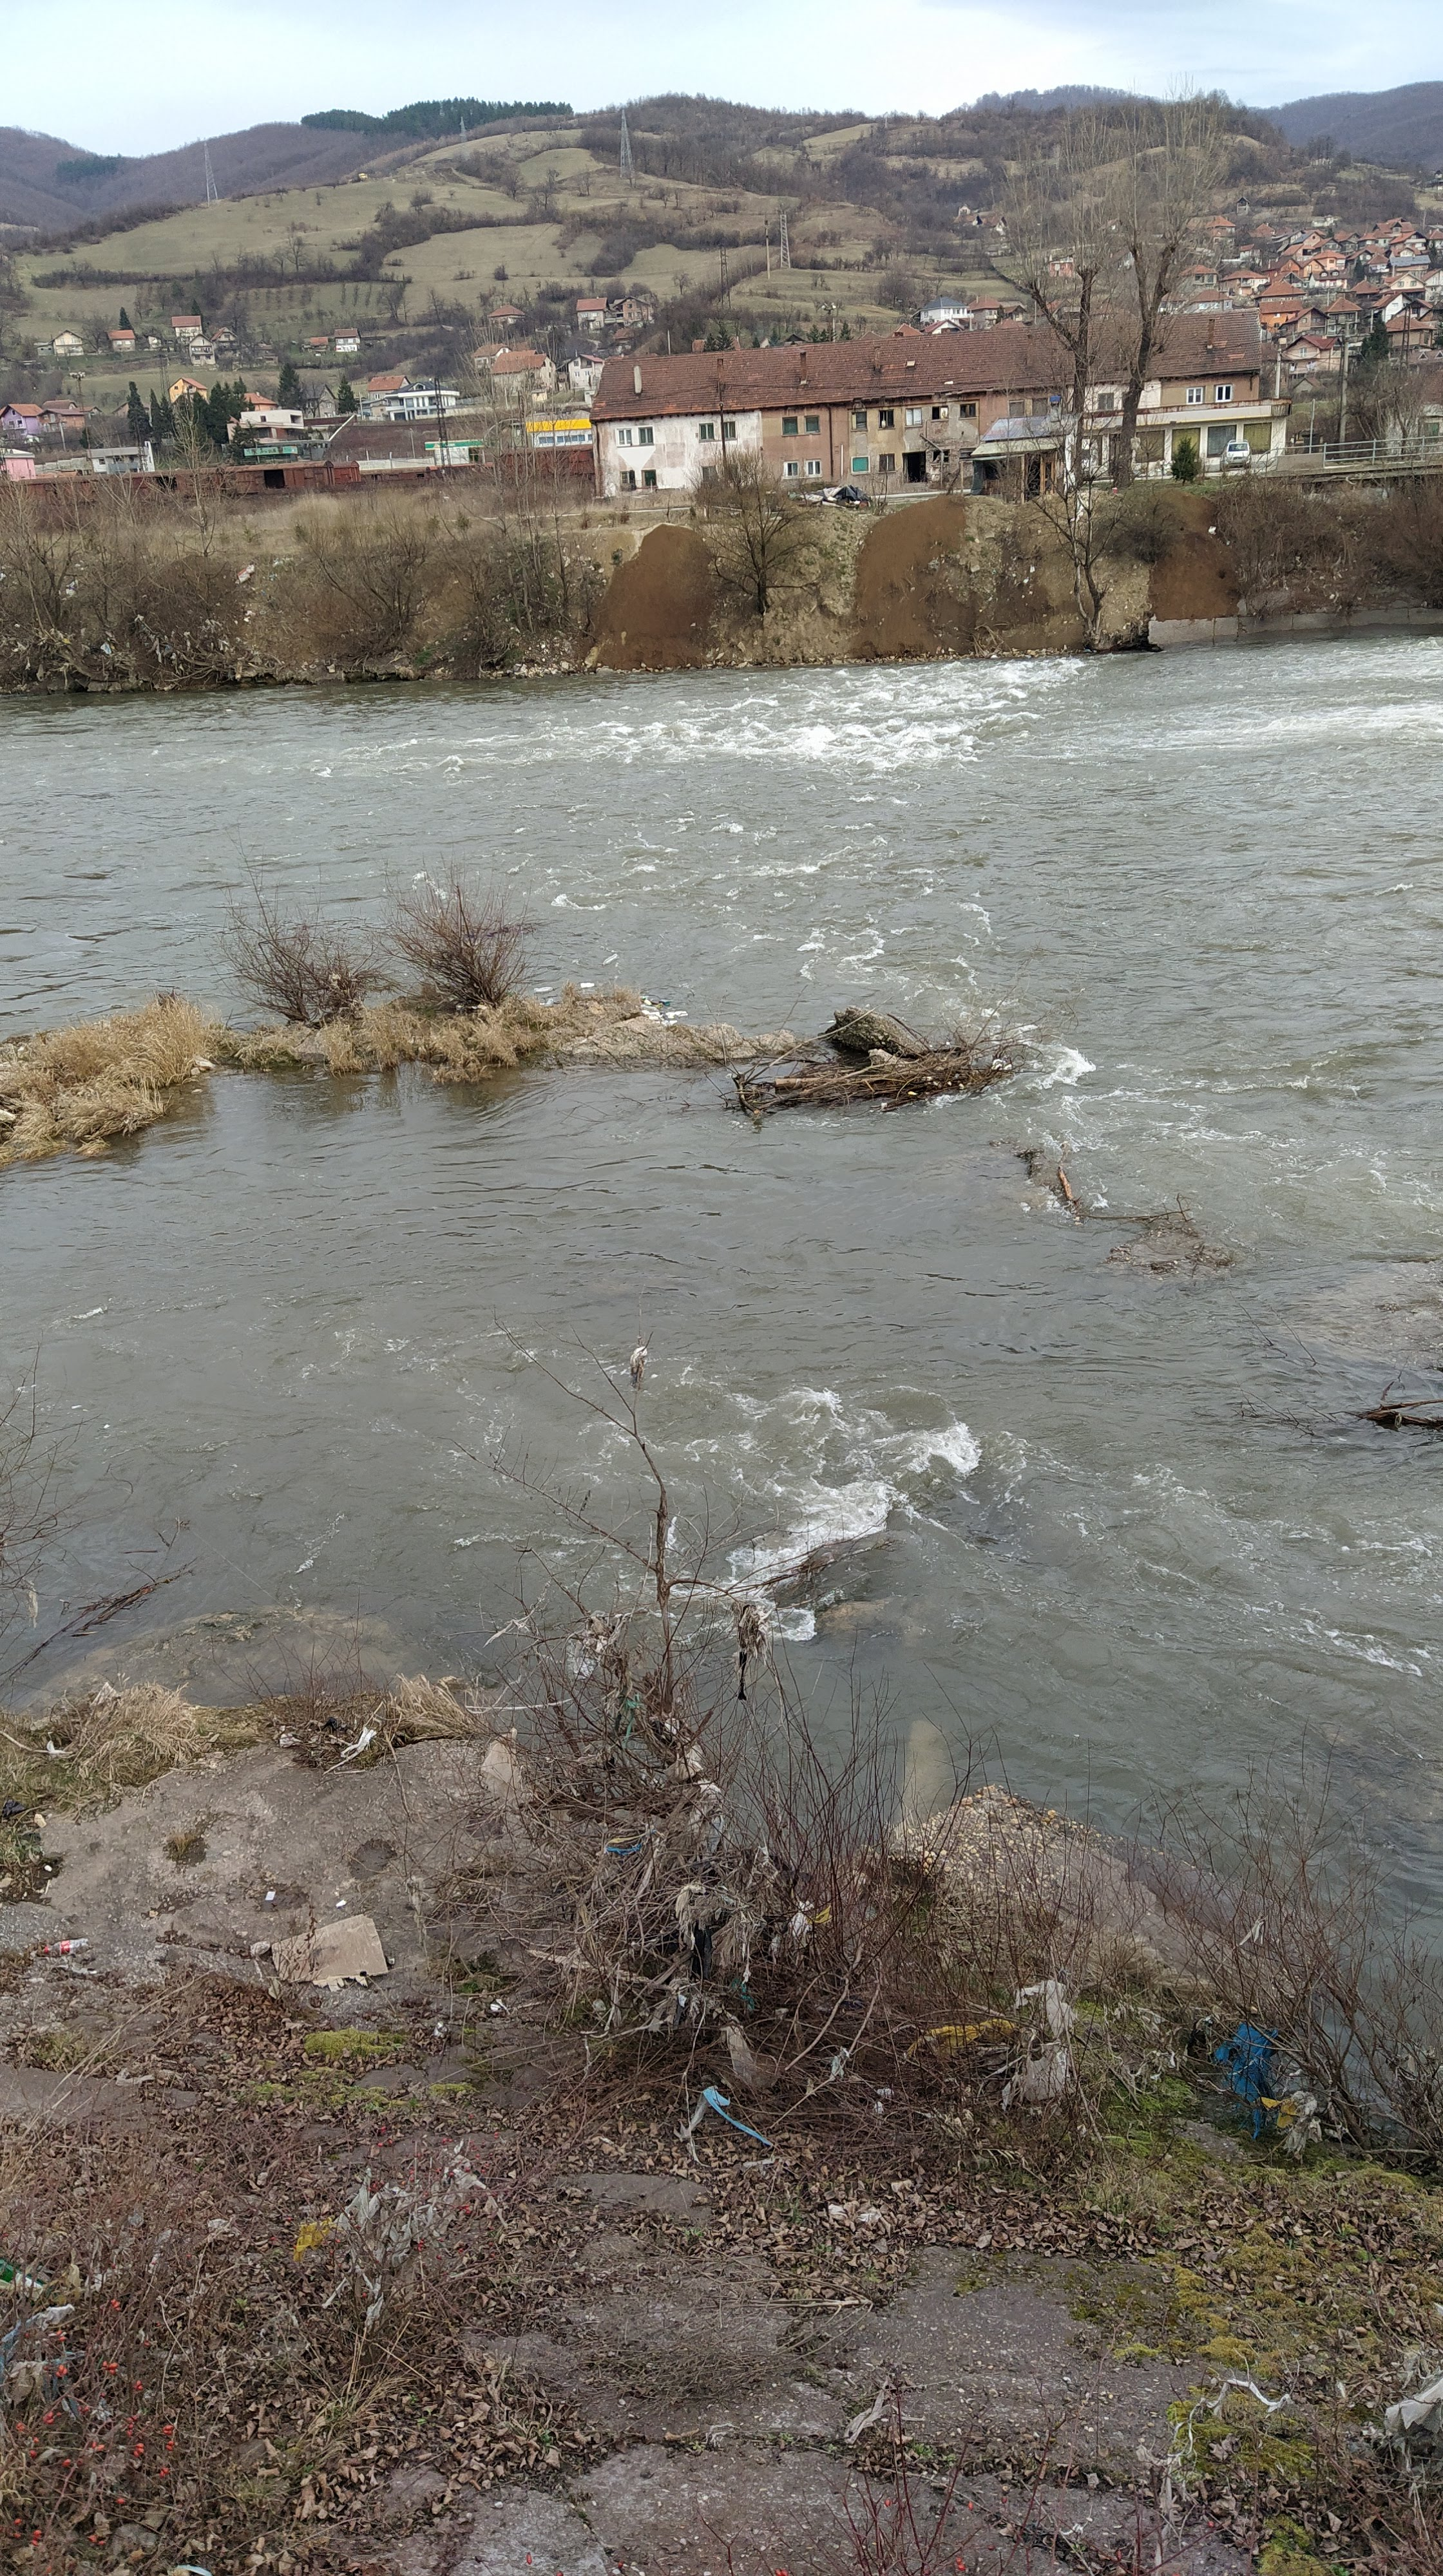Plastic Bottle: (602, 952, 618, 966), (641, 1003, 659, 1010), (533, 987, 556, 993), (581, 982, 595, 987), (547, 996, 554, 1005), (659, 1000, 669, 1005), (644, 1000, 653, 1005)
